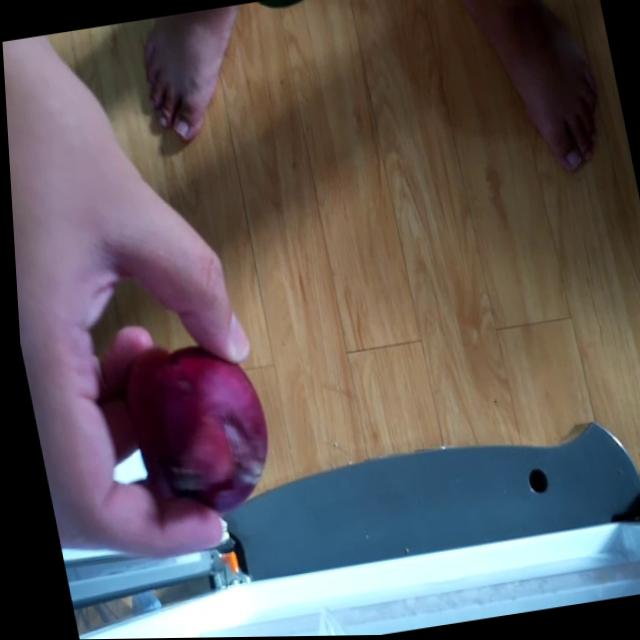onion: (113, 335, 278, 527)
